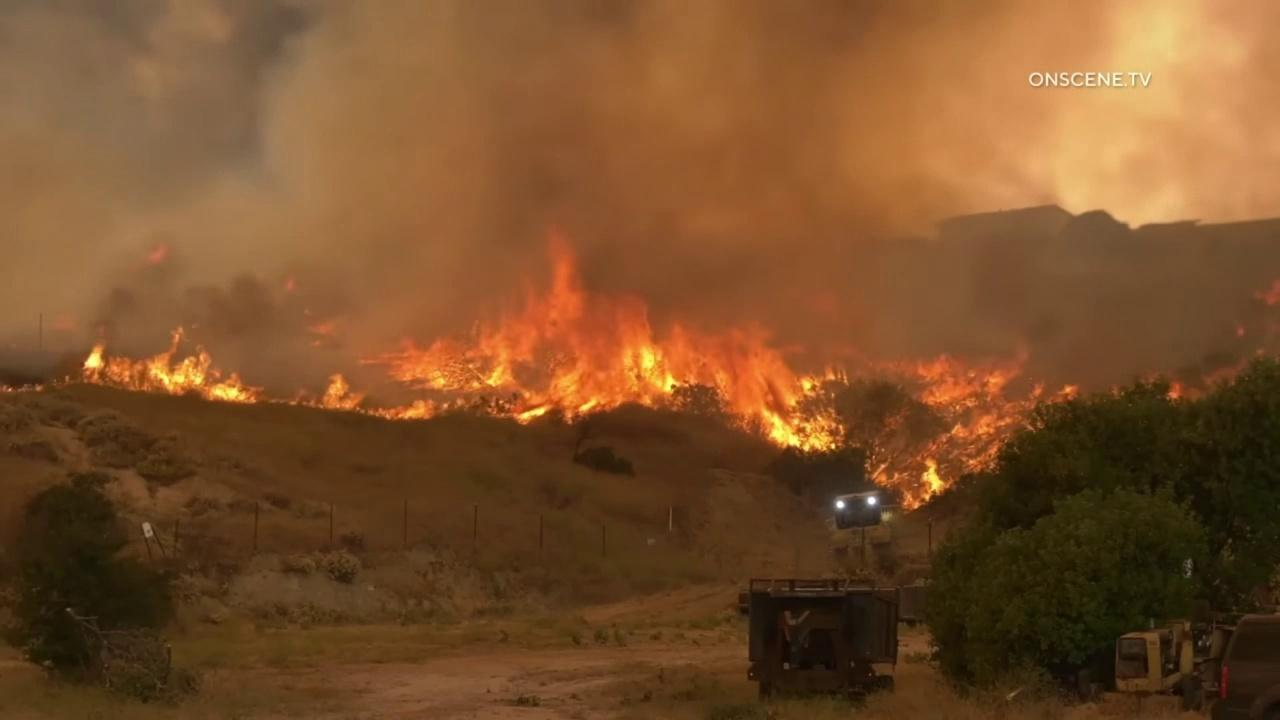fire: (0, 220, 852, 455), (859, 342, 1082, 518), (1166, 348, 1266, 410), (298, 314, 348, 338), (1252, 278, 1280, 312), (144, 242, 170, 268), (282, 272, 295, 292)
smoke: (0, 0, 1280, 376)
